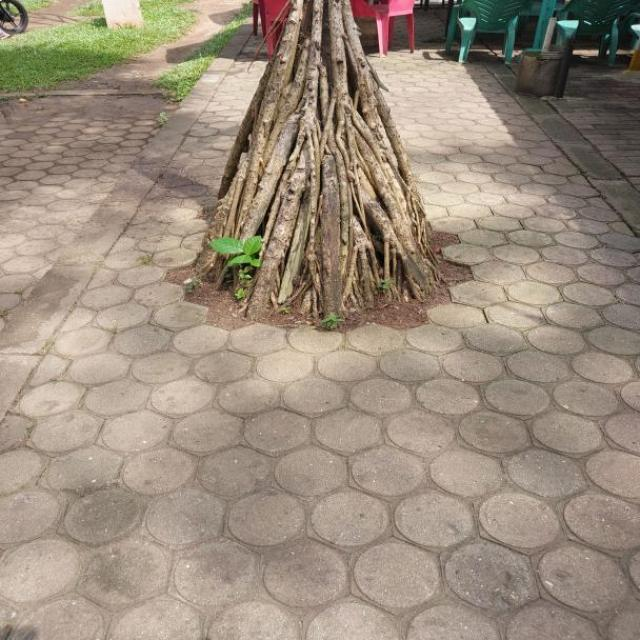tree ahead at: (222, 0, 434, 313)
